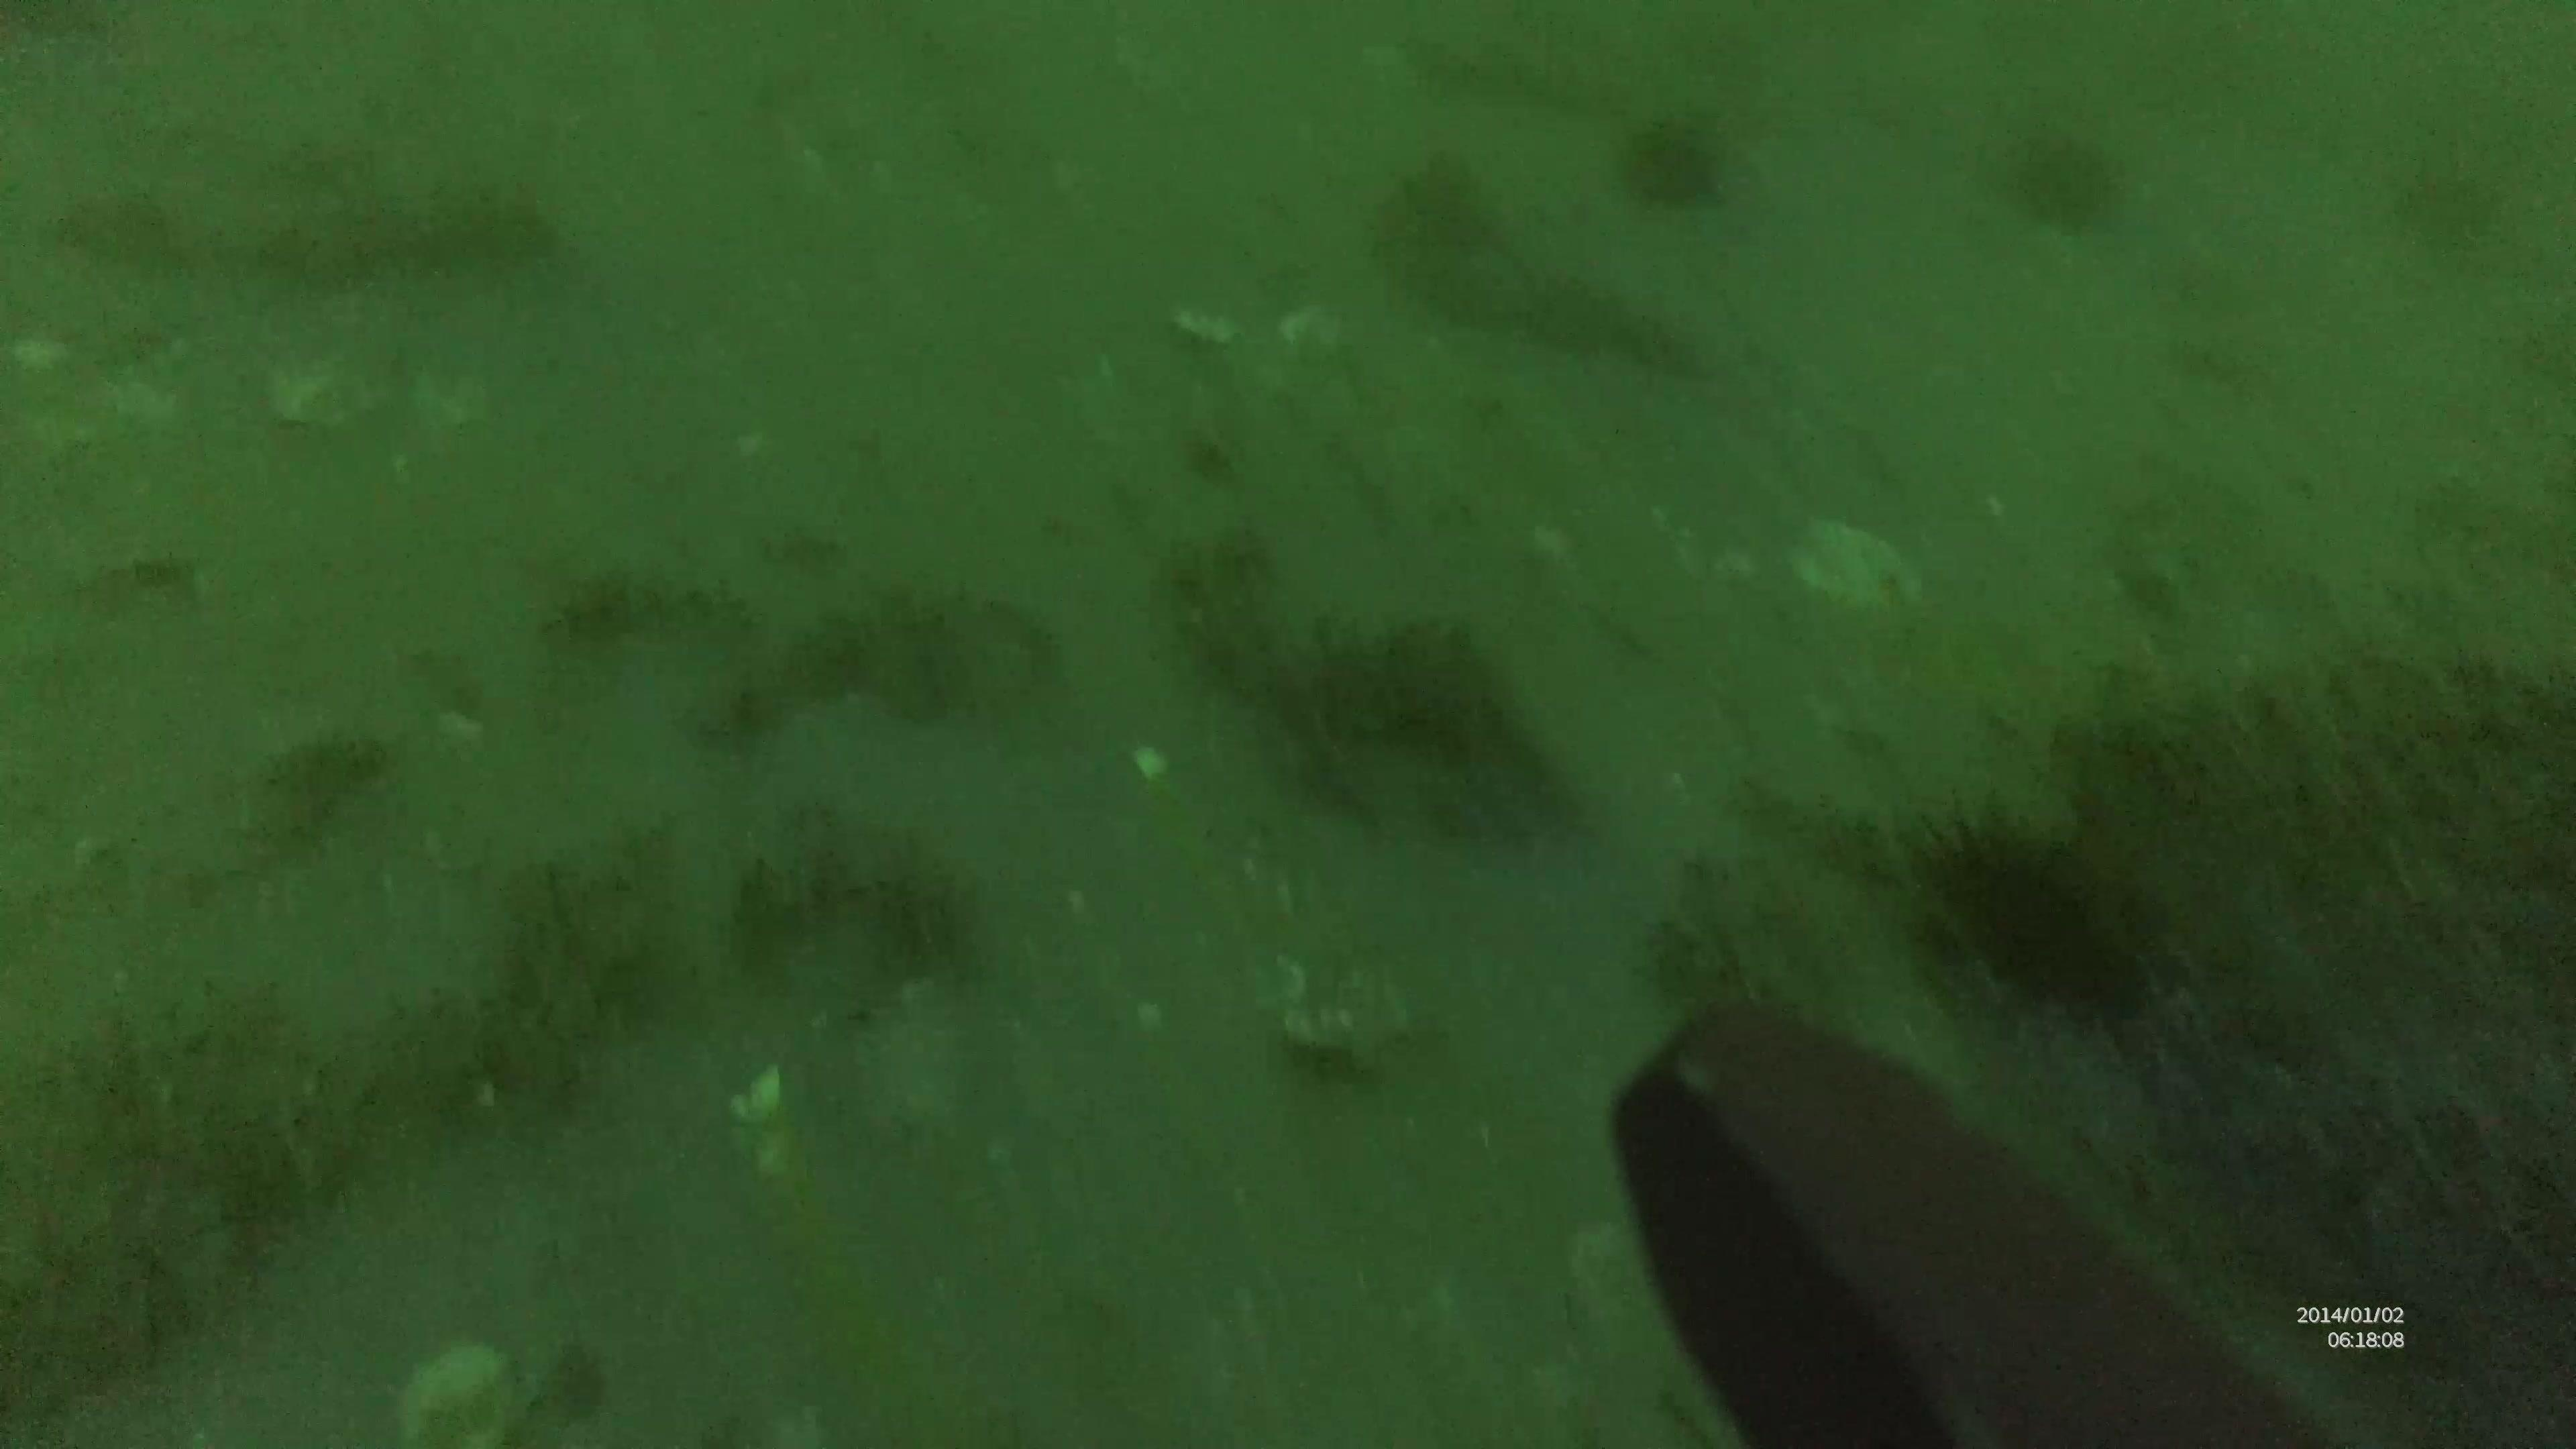echinus: (1904, 805, 2162, 1028), (1996, 120, 2128, 239), (1612, 108, 1736, 218)
